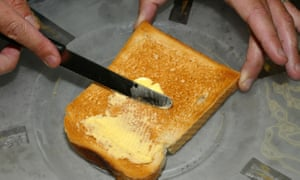slice of bread: (75, 30, 214, 171)
